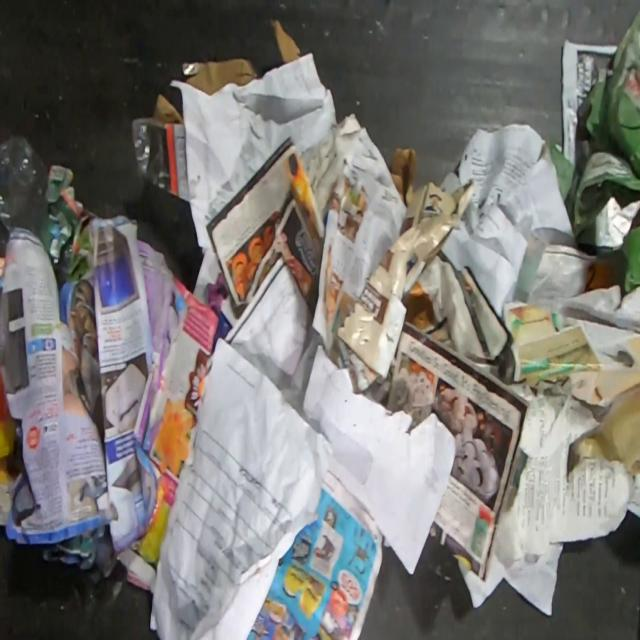cardboard: (502, 283, 640, 480), (549, 10, 640, 292), (131, 92, 189, 204)
soft_plastic: (0, 131, 48, 240)
